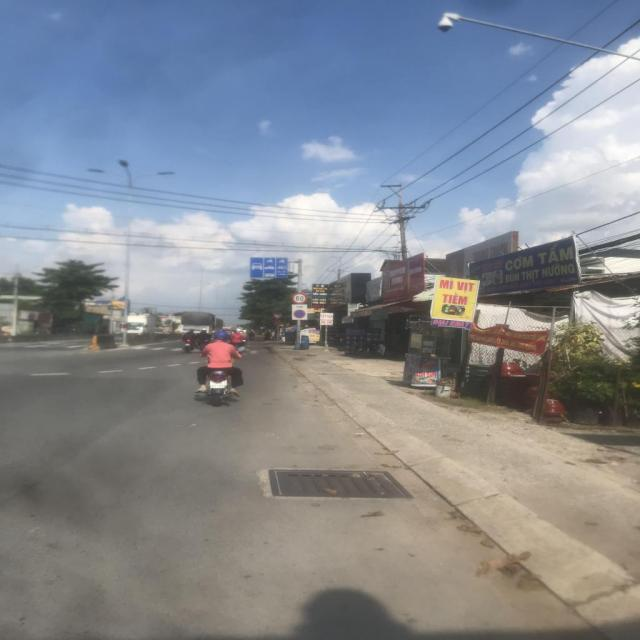cam_do_xe: (293, 310, 305, 318)
lan_duong_cho_tung_xe_theo_vach_ke_duong: (250, 257, 288, 279)
toc_do_toi_da_60: (292, 293, 307, 304)
